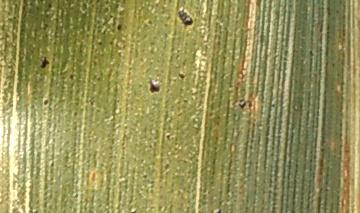tarspot: (176, 4, 196, 30), (146, 76, 162, 96), (236, 98, 253, 111), (38, 55, 52, 70), (93, 37, 107, 49), (176, 69, 188, 81), (114, 21, 125, 33), (41, 96, 51, 109), (308, 48, 317, 60), (45, 1, 54, 12), (67, 72, 76, 82)
